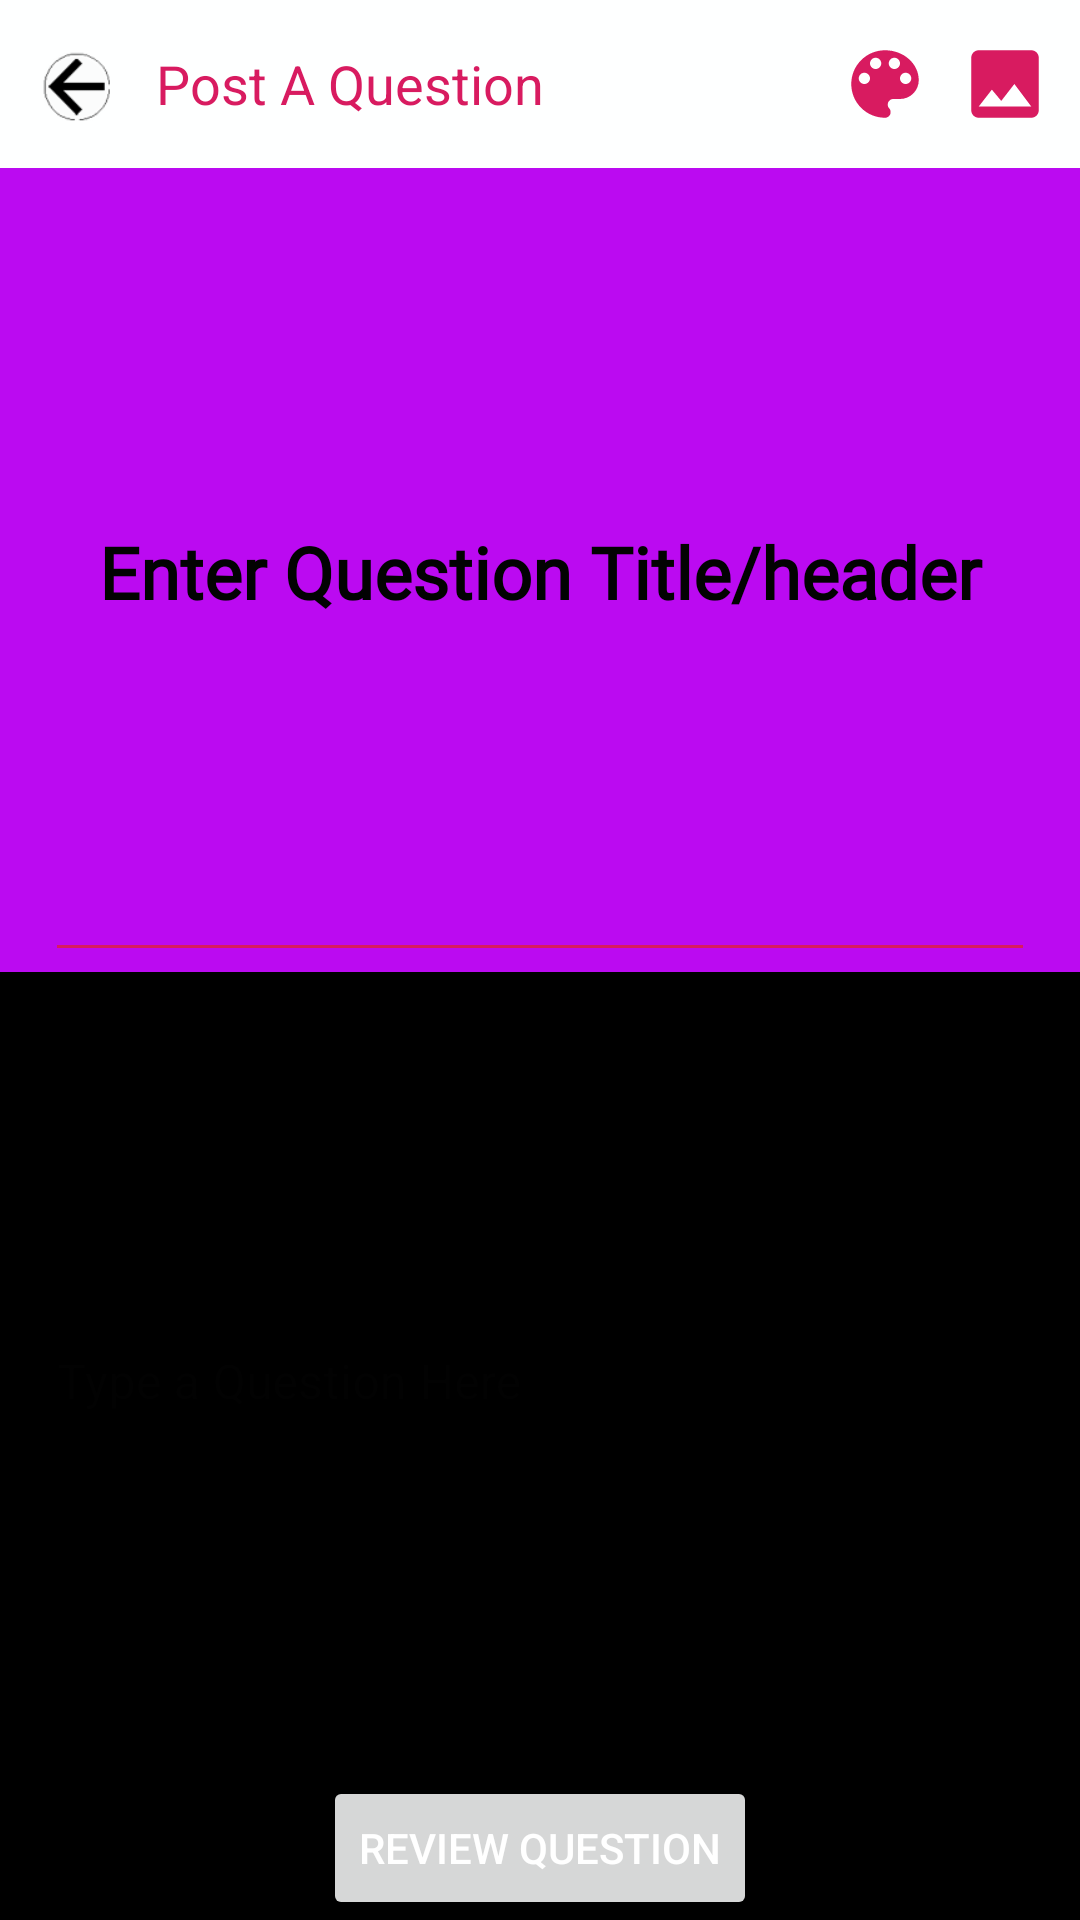

Screen size 1080 x 1920. Icon name, then its center in pixels as point (x, y):
backing: point (76, 87)
insert photo: point (1005, 84)
